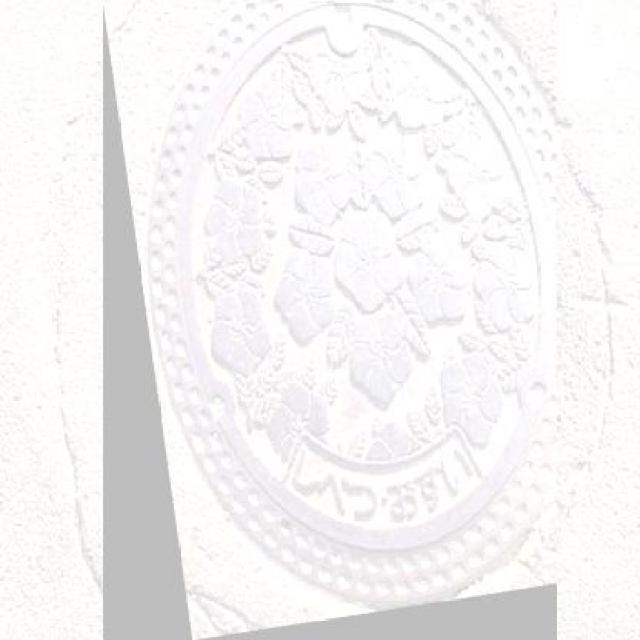Manhole: (103, 3, 557, 640)
